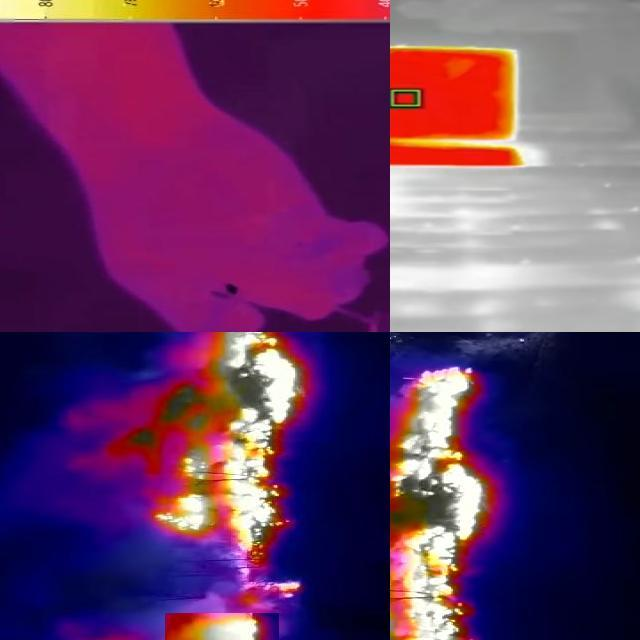fire: (148, 333, 304, 609), (391, 366, 491, 640), (165, 614, 279, 640)
